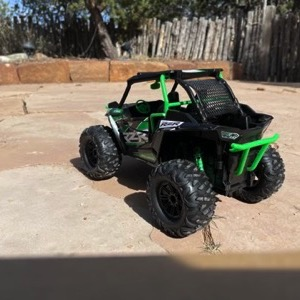polaris: (79, 70, 286, 239)
